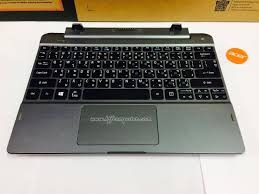keyboard: (23, 43, 226, 101)
